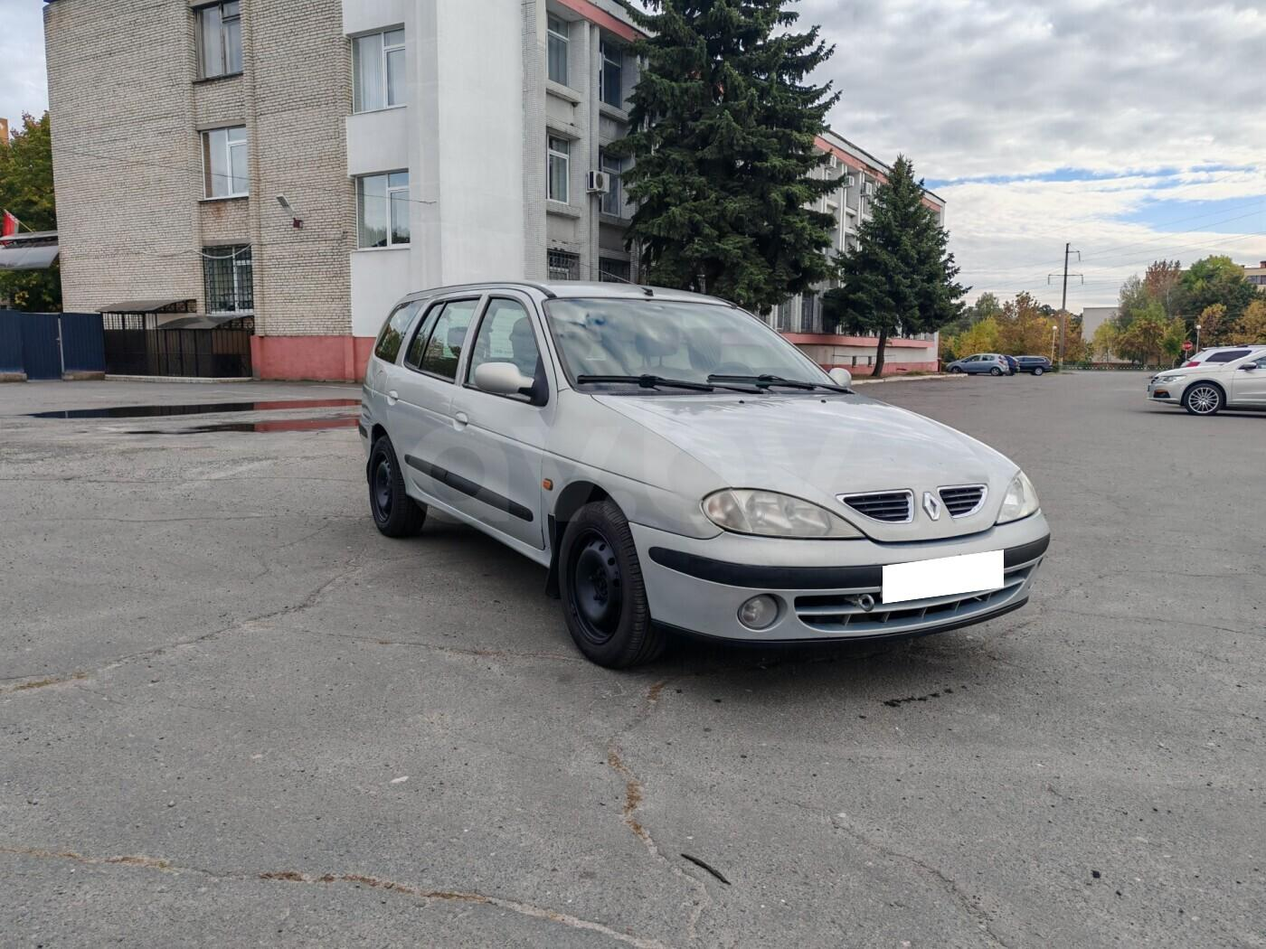Megane_1999-2003: (351, 278, 1059, 670)
